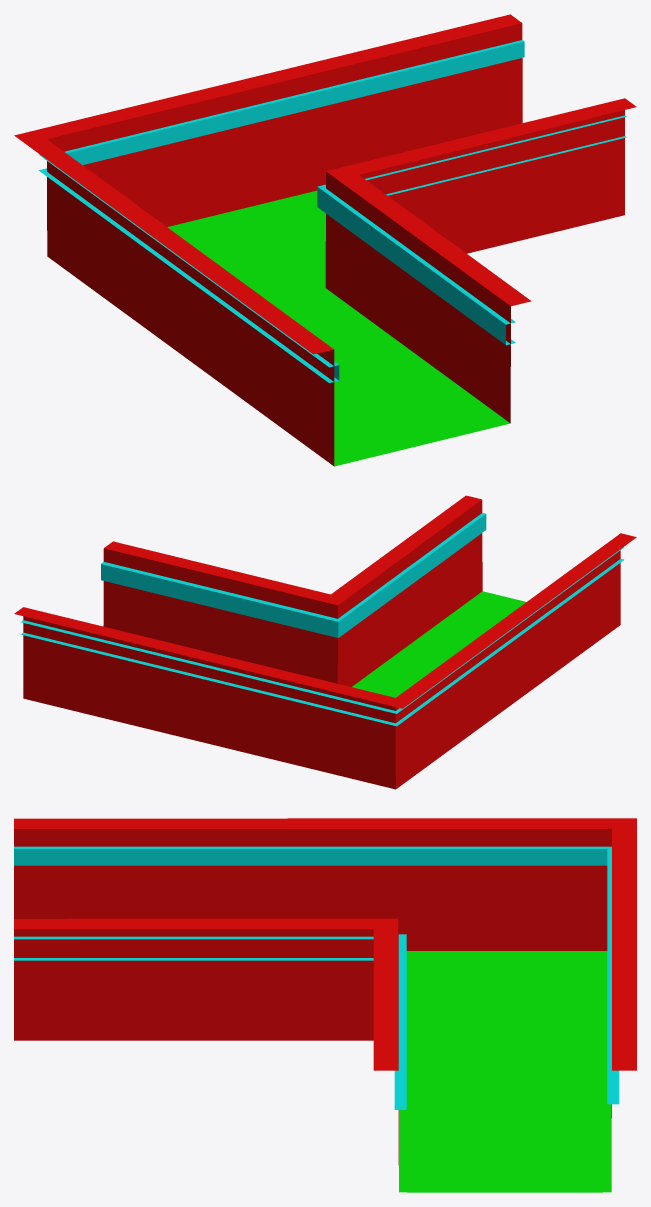
File: Station_Corner.fbx
3 views of the same model, one above another, from view 1: azimuth 30°, elevation 25°; view 2: azimuth 150°, elevation 25°; view 3: azimuth 270°, elevation 25° (orthographic). The views are drawn at different scales.
Visible parts, largest first — view 1: Esquina3; view 2: Esquina3; view 3: Esquina3.
Part boxes in pixels (x1,y1,x2,y2): Esquina3: [14, 14, 636, 466]; Esquina3: [14, 495, 636, 789]; Esquina3: [14, 818, 636, 1192].
Size of the model in its own units: 128 by 28.75 by 133.
